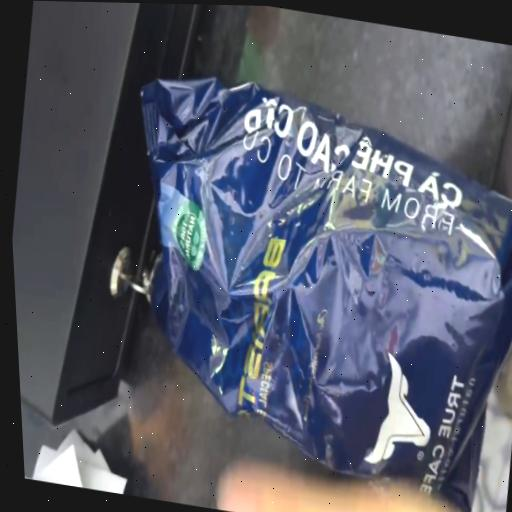cafe_hat: (142, 77, 512, 510)
